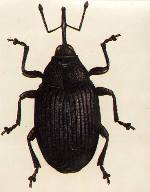dolgonosik: (14, 5, 135, 189)
